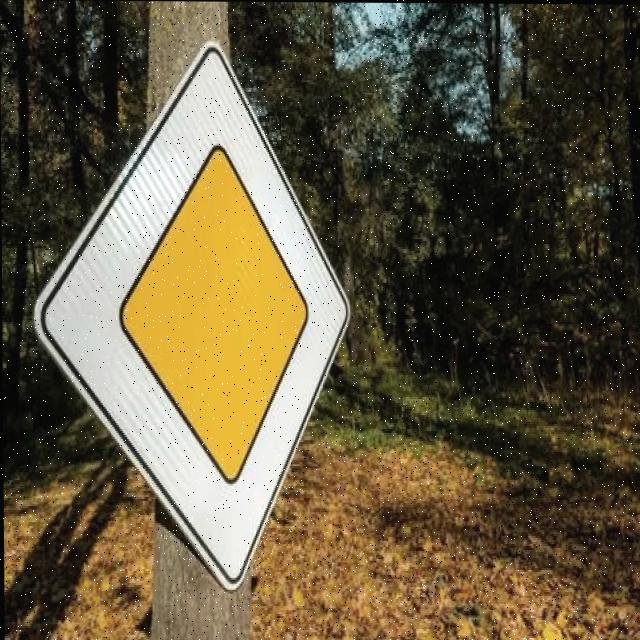signs: (28, 39, 353, 595)
